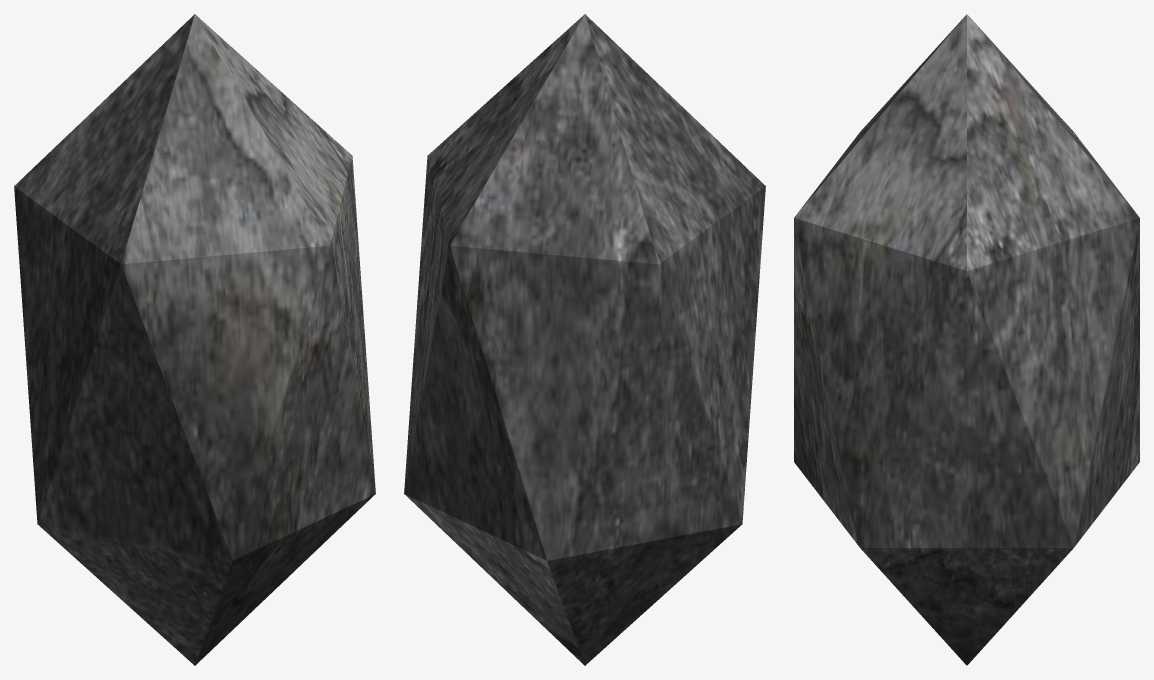
Rendered from Caillou_attack_3_Boss_Roche.glb.
The picture shows the model from 3 angles, left to right: view 1: azimuth 30°, elevation 25°; view 2: azimuth 150°, elevation 25°; view 3: azimuth 270°, elevation 25°; orthographic projection.
Parts seen in each view (by area): view 1: Icosphere; view 2: Icosphere; view 3: Icosphere.
Boxes of the visible parts, x1,y1,x2,y2 form: Icosphere: [14, 14, 375, 665]; Icosphere: [404, 14, 765, 665]; Icosphere: [794, 14, 1139, 665].
Bounding box in the file's own units: 27.5 × 54.39 × 26.16.
Materials: 1 (1 with a texture image).
